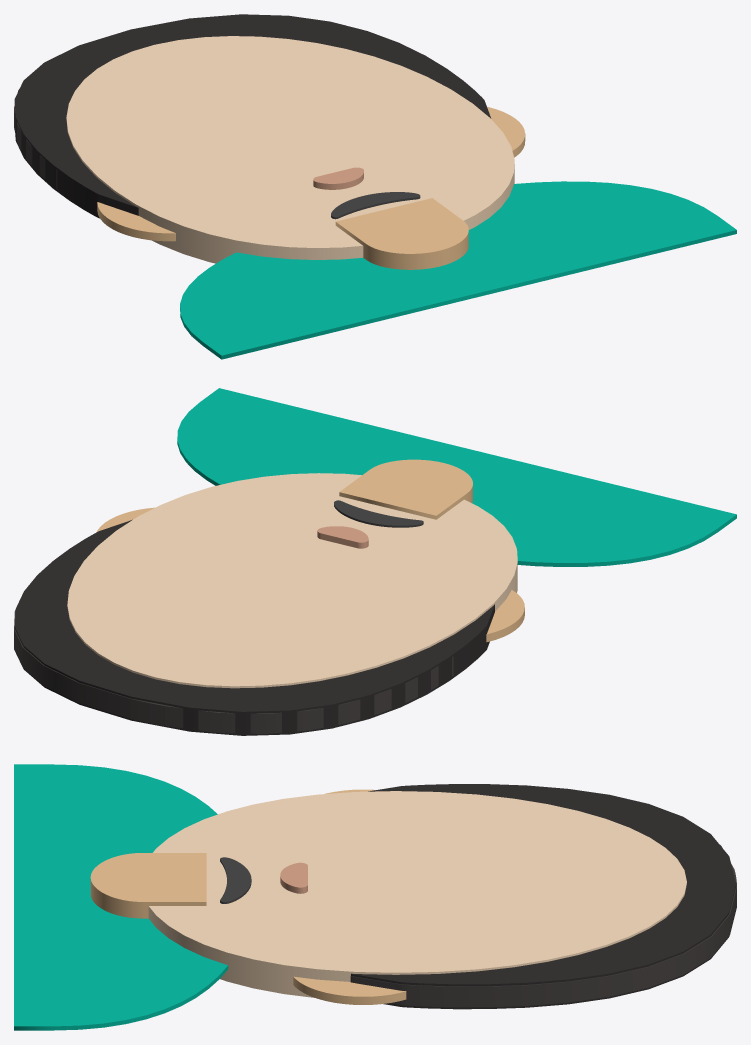
Rendered from emoji_u1f64d_1f3fb_200d_2642.glb.
The picture shows the model from 3 angles, top to bottom: view 1: azimuth 30°, elevation 25°; view 2: azimuth 150°, elevation 25°; view 3: azimuth 270°, elevation 25°; orthographic projection. The views are drawn at different scales.
Visible parts, largest first — view 1: emoji_u1f64d_1f3fb_200d_2642; view 2: emoji_u1f64d_1f3fb_200d_2642; view 3: emoji_u1f64d_1f3fb_200d_2642.
Part boxes in pixels (x1=…): emoji_u1f64d_1f3fb_200d_2642: x1=14, y1=14, x2=736, y2=359; emoji_u1f64d_1f3fb_200d_2642: x1=14, y1=388, x2=736, y2=735; emoji_u1f64d_1f3fb_200d_2642: x1=14, y1=764, x2=736, y2=1030.
Size of the model in its own units: 0.0271 by 0.002 by 0.0316.
